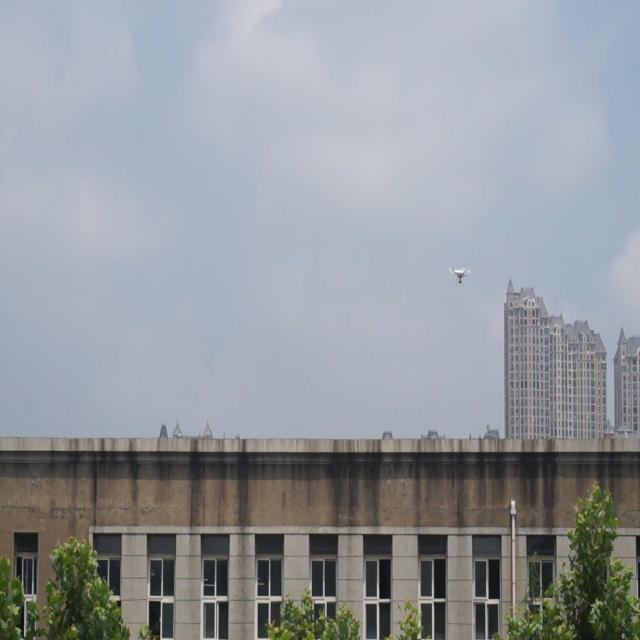UAV: (448, 266, 471, 286)
